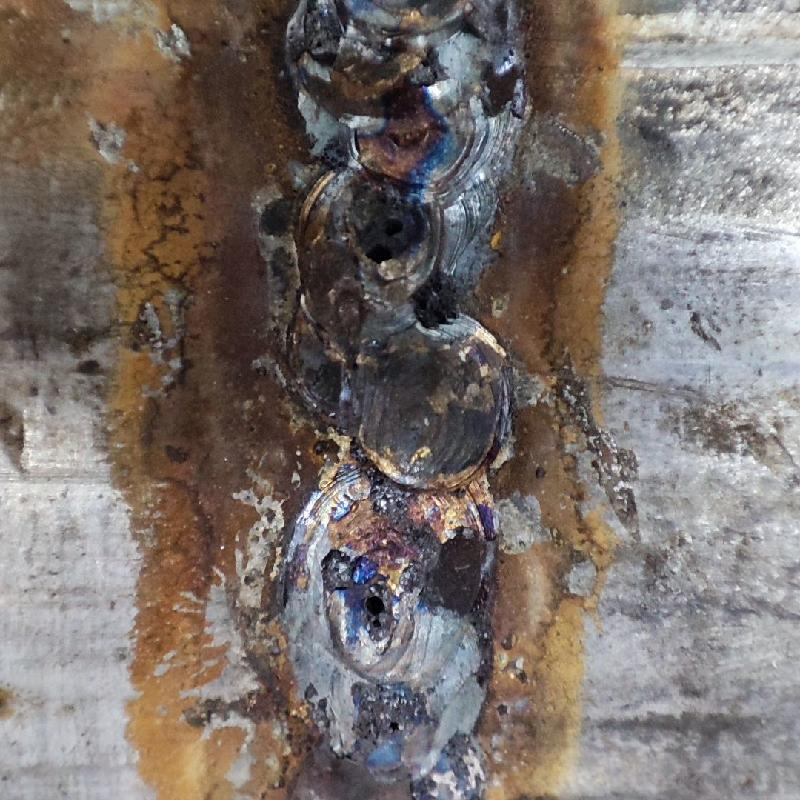Surface_pores: (327, 569, 413, 639), (352, 208, 428, 268)
crater: (246, 3, 523, 699)
